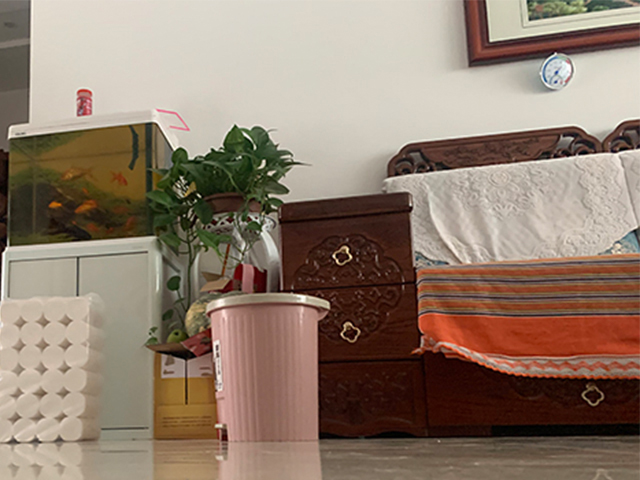cabinet: (2, 235, 184, 441)
sofa: (277, 117, 640, 440)
trashcan: (205, 292, 332, 443)
